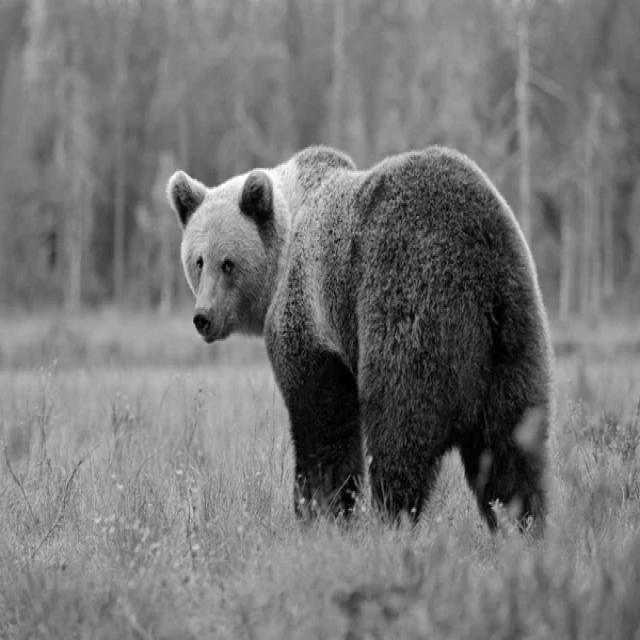Animal: (168, 146, 554, 527)
